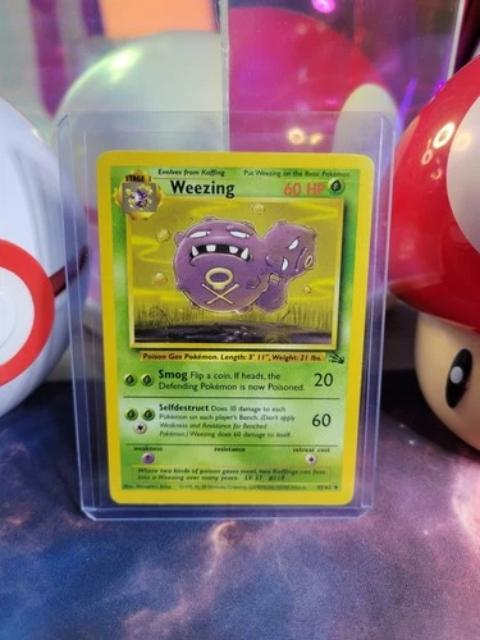Card: (92, 143, 372, 508)
Name: (163, 175, 236, 200)
